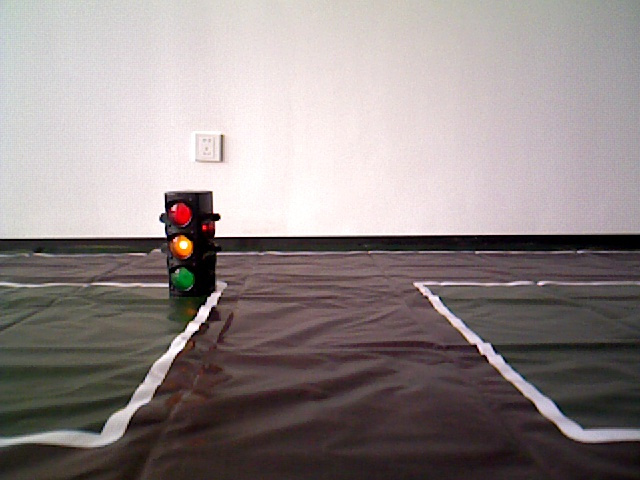yellow: (166, 192, 211, 299)
